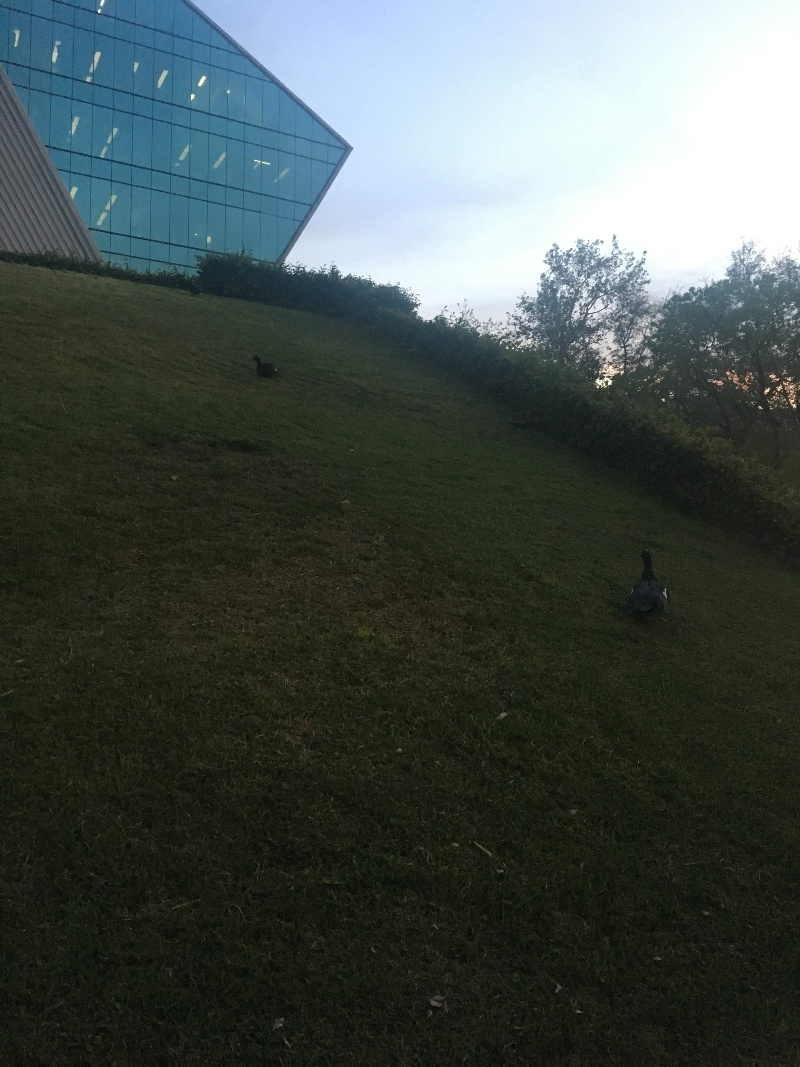pato: (626, 547, 674, 625)
